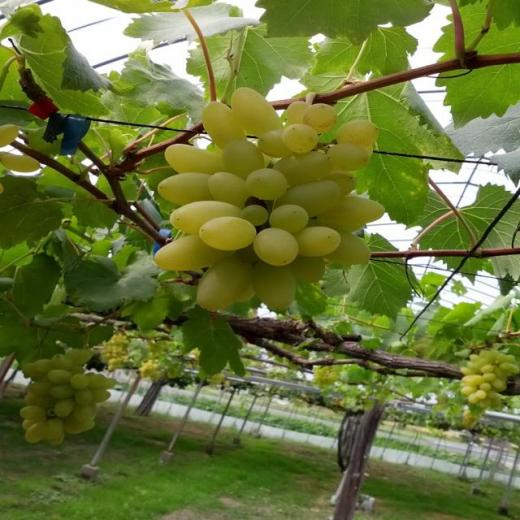Orange: (154, 88, 386, 311), (20, 350, 117, 446), (461, 348, 519, 408), (0, 124, 41, 194), (312, 367, 341, 391), (106, 334, 130, 354), (463, 409, 482, 427)
